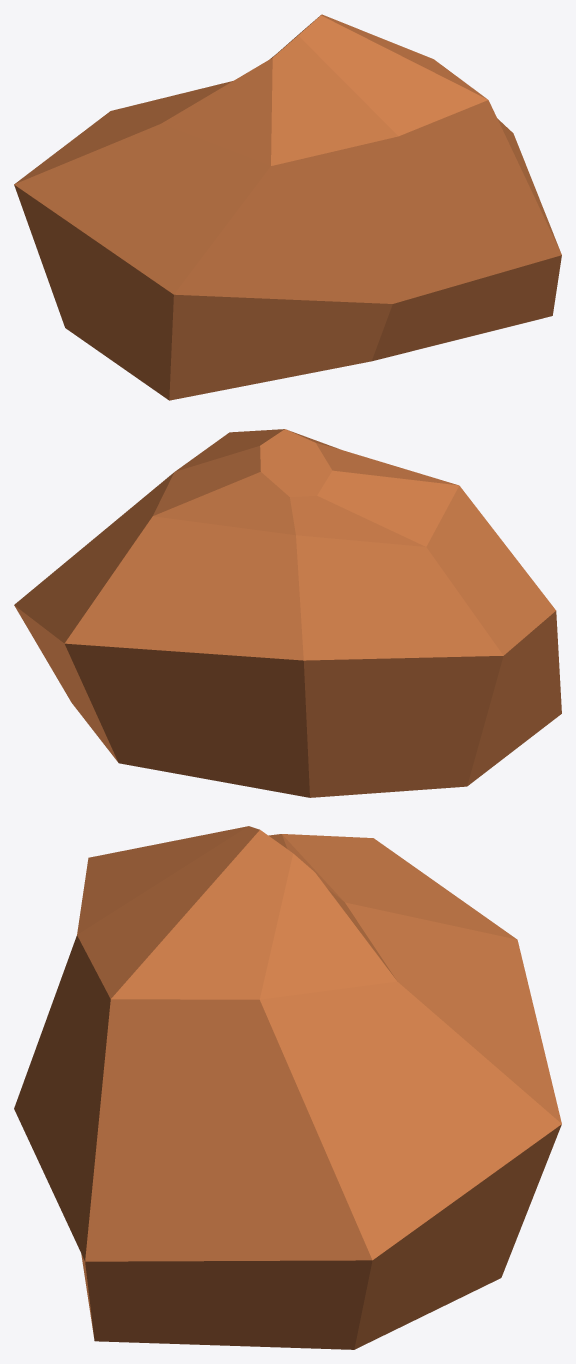
The model's file is SM_Rock_A.fbx.
3 views of the same model, one above another, from view 1: azimuth 30°, elevation 25°; view 2: azimuth 150°, elevation 25°; view 3: azimuth 270°, elevation 25° (orthographic). The views are drawn at different scales.
Parts seen in each view (by area): view 1: Rock_A; view 2: Rock_A; view 3: Rock_A.
Boxes of the visible parts, bbox=[...] form: Rock_A: bbox=[14, 14, 561, 400]; Rock_A: bbox=[14, 429, 561, 797]; Rock_A: bbox=[14, 826, 561, 1349].
Bounding box in the file's own units: 216 × 153 × 123.
